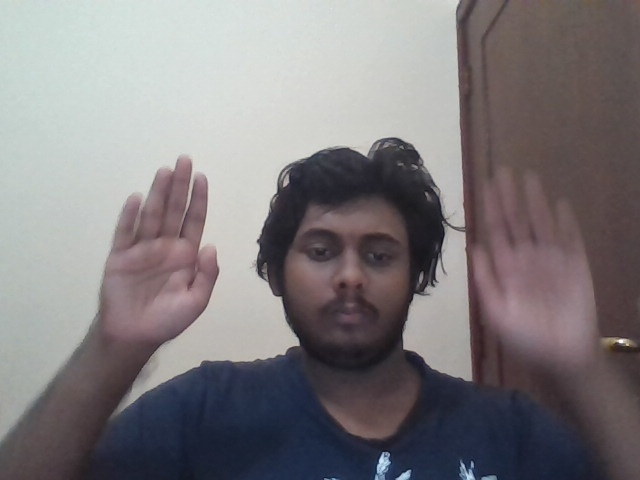hello: (98, 154, 221, 350)
